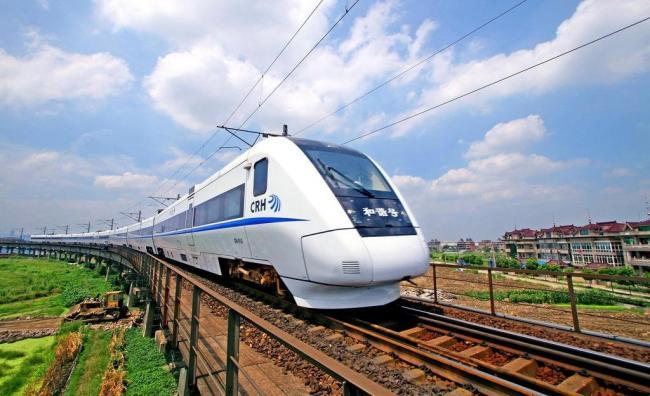hsrw: (28, 134, 431, 317)
